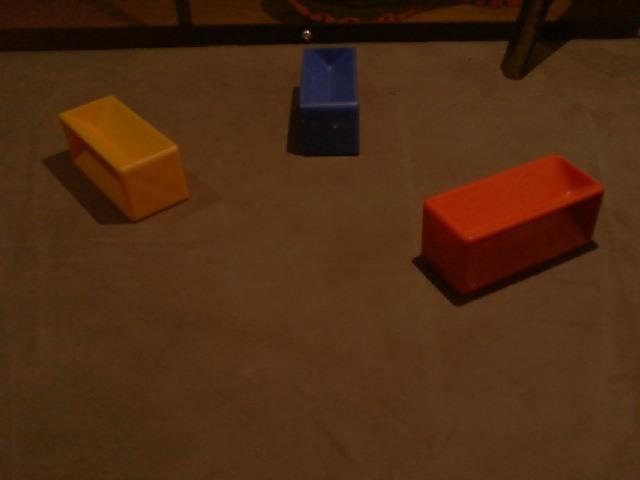BlueSample: (296, 44, 363, 159)
RedSample: (418, 152, 606, 296)
YellowSample: (57, 92, 191, 224)
